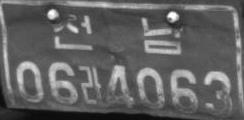0: (135, 66, 166, 110), (15, 58, 45, 103)
3: (203, 70, 233, 117)
4: (103, 64, 135, 109)
6: (169, 68, 199, 115), (47, 61, 79, 105)
라: (79, 65, 103, 105)
전남_D: (52, 13, 186, 55)
